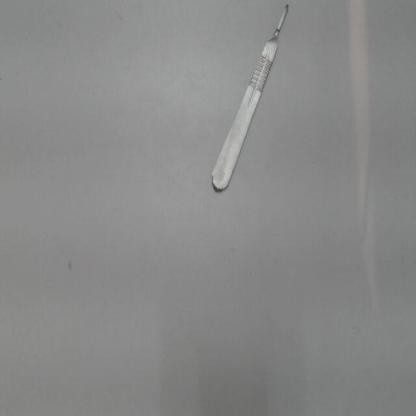No.3 BP Handle: (204, 1, 296, 199)
